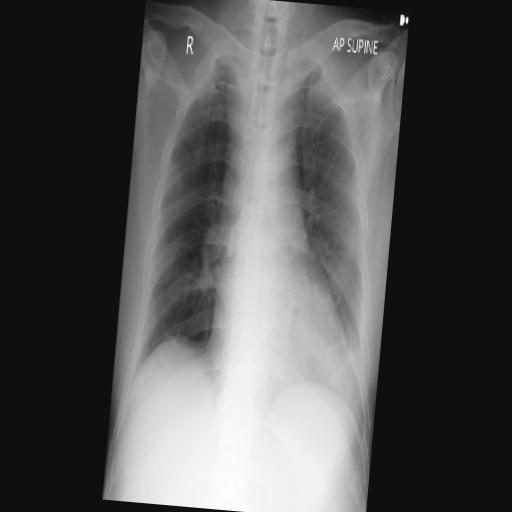kardiomegali: (196, 218, 366, 428)
